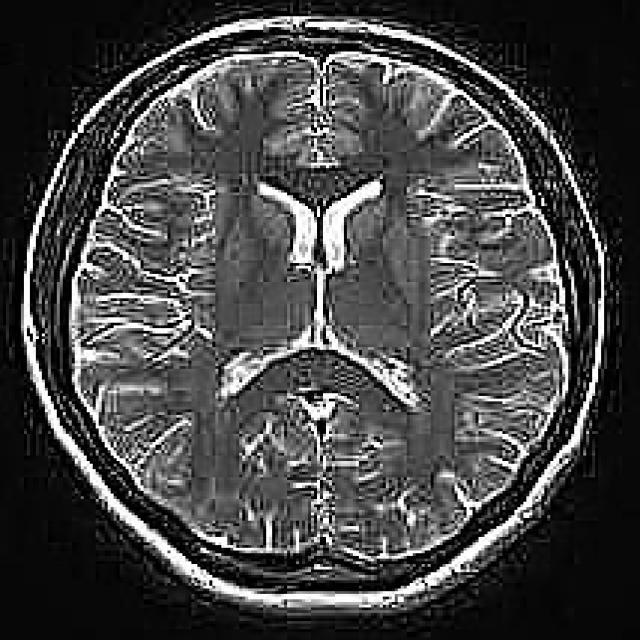notumor: (24, 16, 601, 607)
